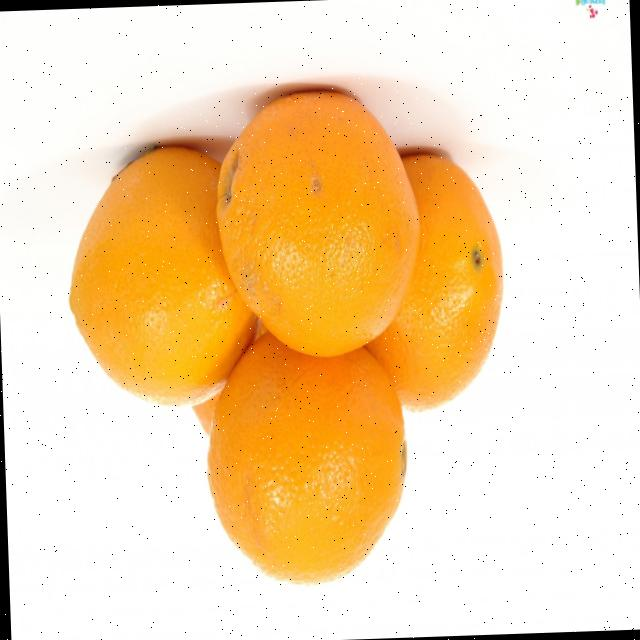Jeruk: (211, 86, 424, 362), (202, 326, 412, 590), (62, 142, 262, 412), (357, 150, 508, 415)
